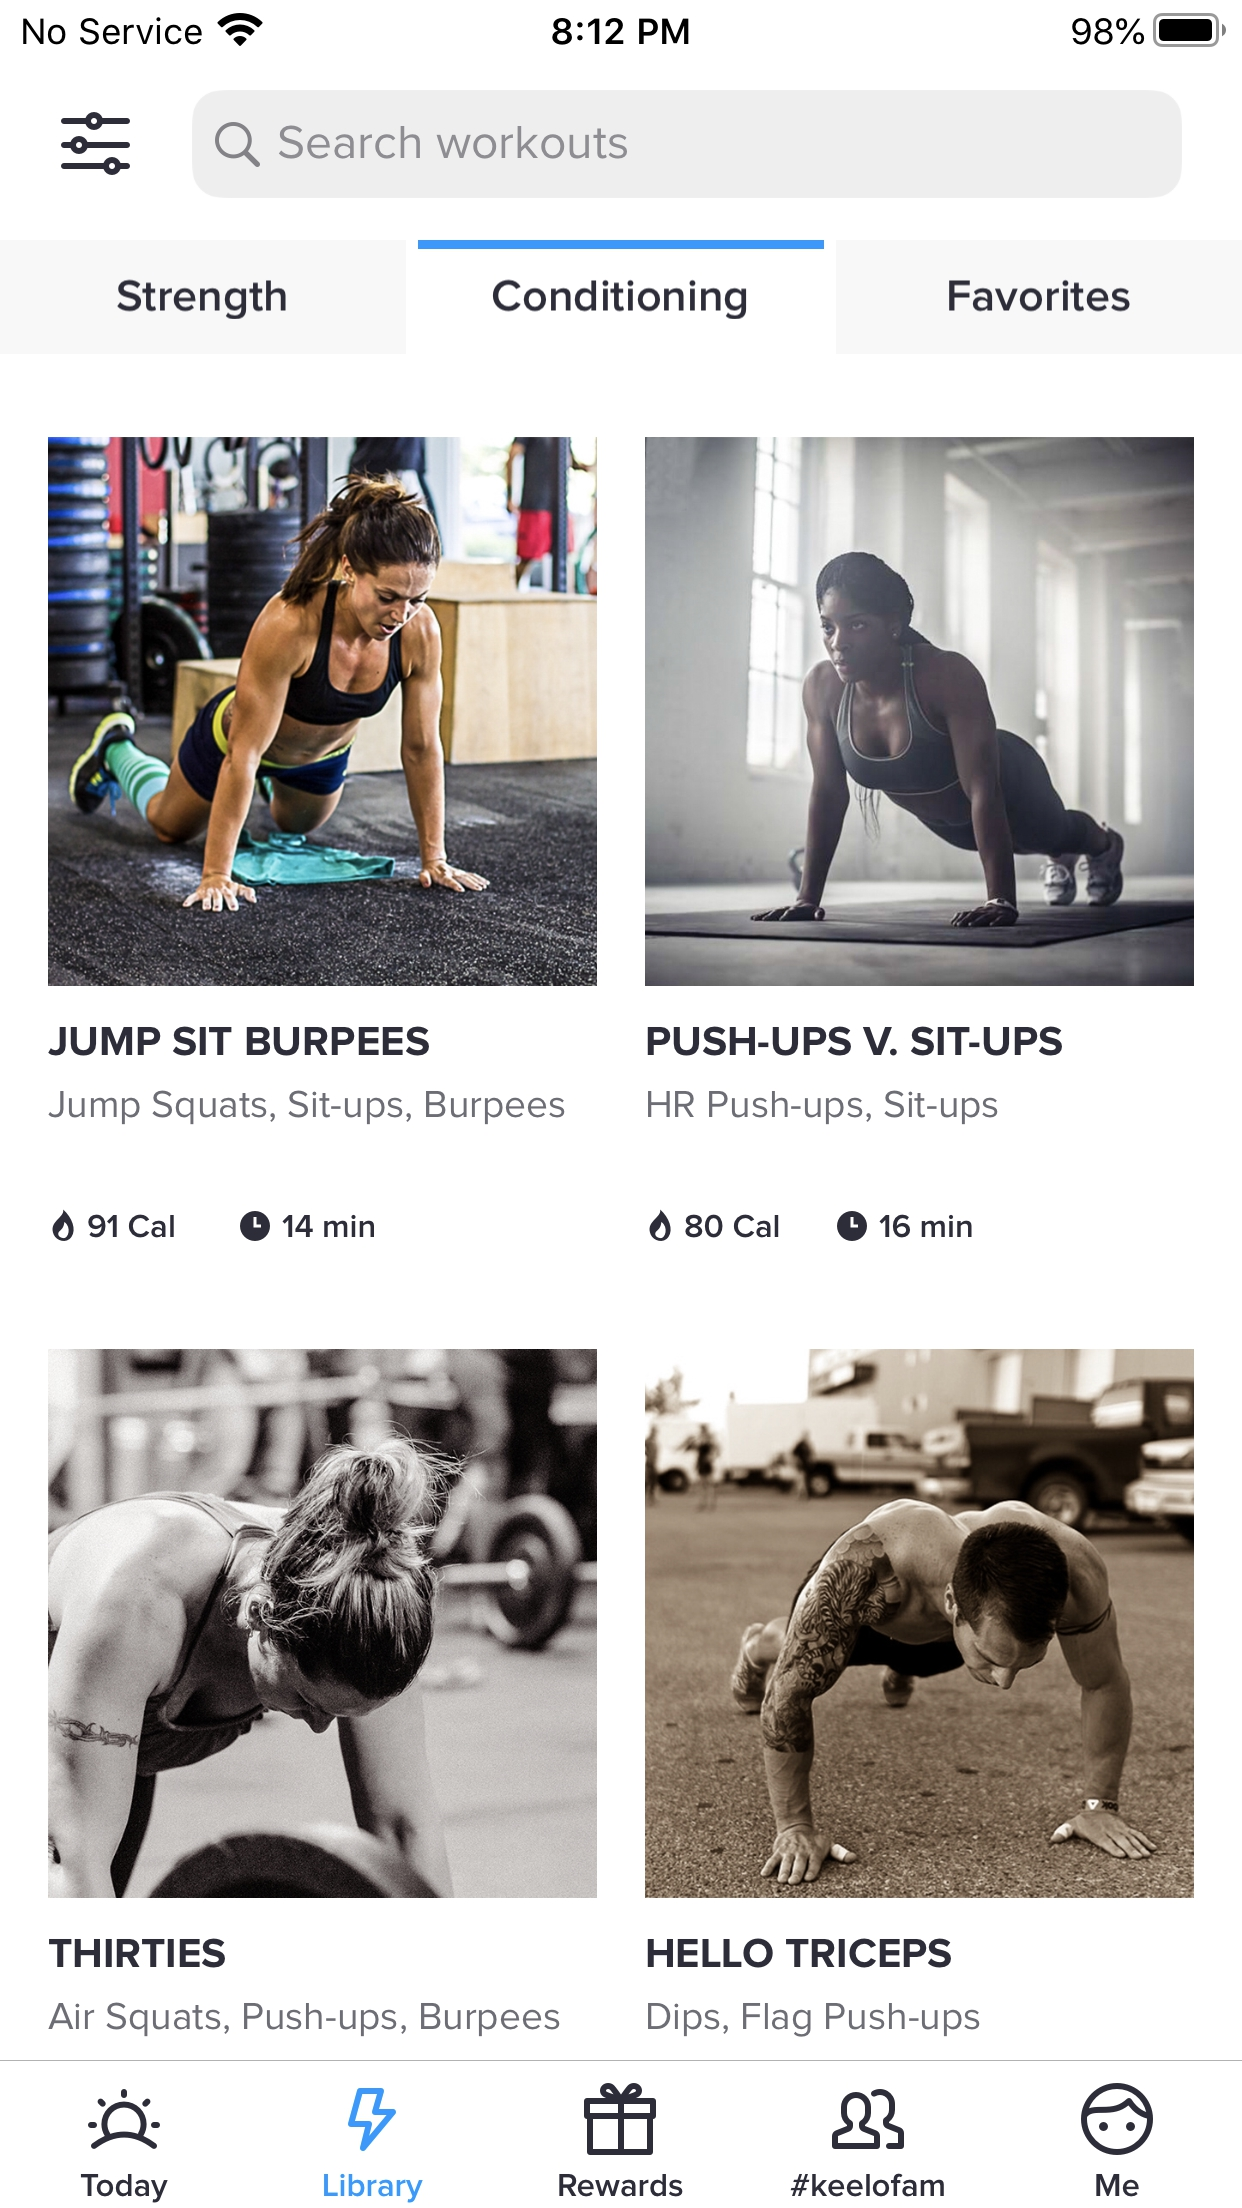EditText: (193, 91, 1181, 199)
Icon: (584, 2084, 657, 2155), (1081, 2084, 1153, 2155), (62, 114, 130, 176), (833, 2090, 904, 2149), (89, 2090, 161, 2149), (215, 123, 261, 168), (837, 1212, 867, 1242), (241, 1212, 271, 1242), (649, 1209, 672, 1242), (53, 1209, 74, 1242)
Image: (49, 438, 597, 987), (645, 438, 1193, 987), (645, 1350, 1193, 1899), (49, 1350, 597, 1899), (349, 2088, 397, 2150)
Text: (49, 1090, 566, 1125), (49, 2003, 561, 2037), (648, 1090, 998, 1127), (648, 1027, 1062, 1057), (281, 126, 628, 161), (49, 1027, 431, 1057), (648, 2003, 980, 2037), (493, 281, 748, 320), (648, 1940, 952, 1967), (118, 281, 287, 320), (949, 281, 1130, 312), (50, 1938, 226, 1968), (792, 2173, 943, 2197), (325, 2175, 425, 2203), (560, 2175, 684, 2197), (82, 2175, 168, 2203), (685, 1215, 779, 1239), (880, 1215, 972, 1239), (284, 1215, 375, 1237), (89, 1215, 174, 1239), (1096, 2175, 1139, 2197)
UpperTaskBar: (2, 2, 1242, 49)
